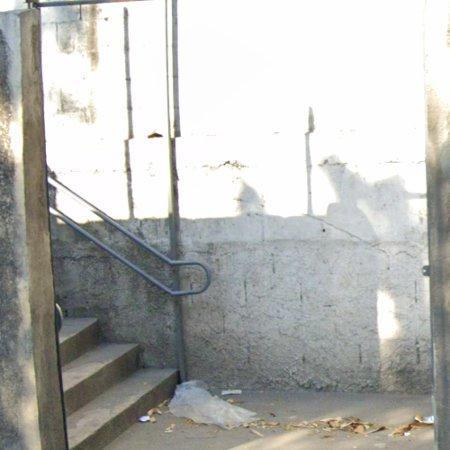stairs: (59, 319, 178, 450)
